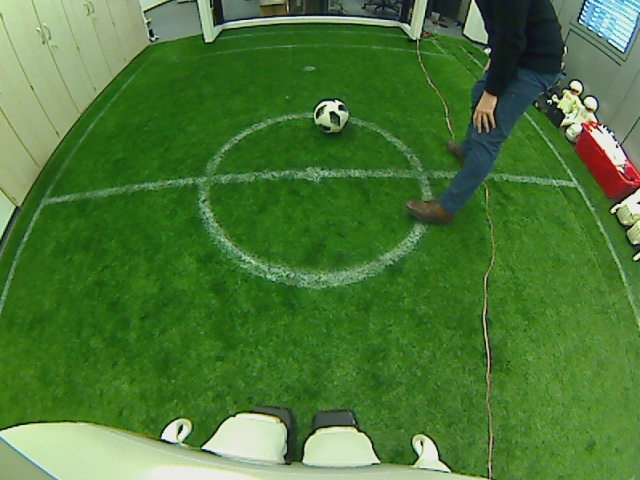ball: (312, 98, 349, 134)
